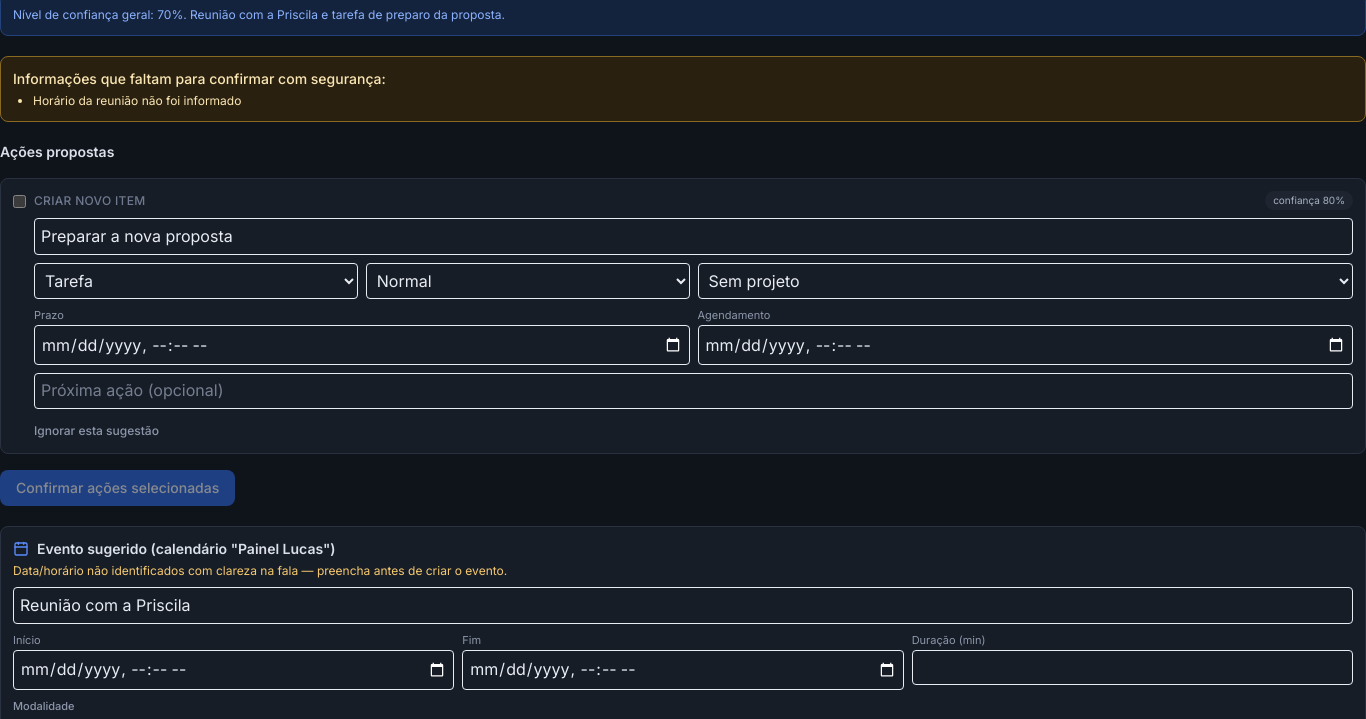
Test: AudioCaptureReview — criação e resultado › cria o evento só após clique explícito, envia o aiRunId e mostra as ações de sucesso
Type "2026-08-05T10:00" into the field labelled "Início".
click(234, 670); type("2026-08-05T10:00")  # box [13, 650, 454, 690]
(page scrolled)
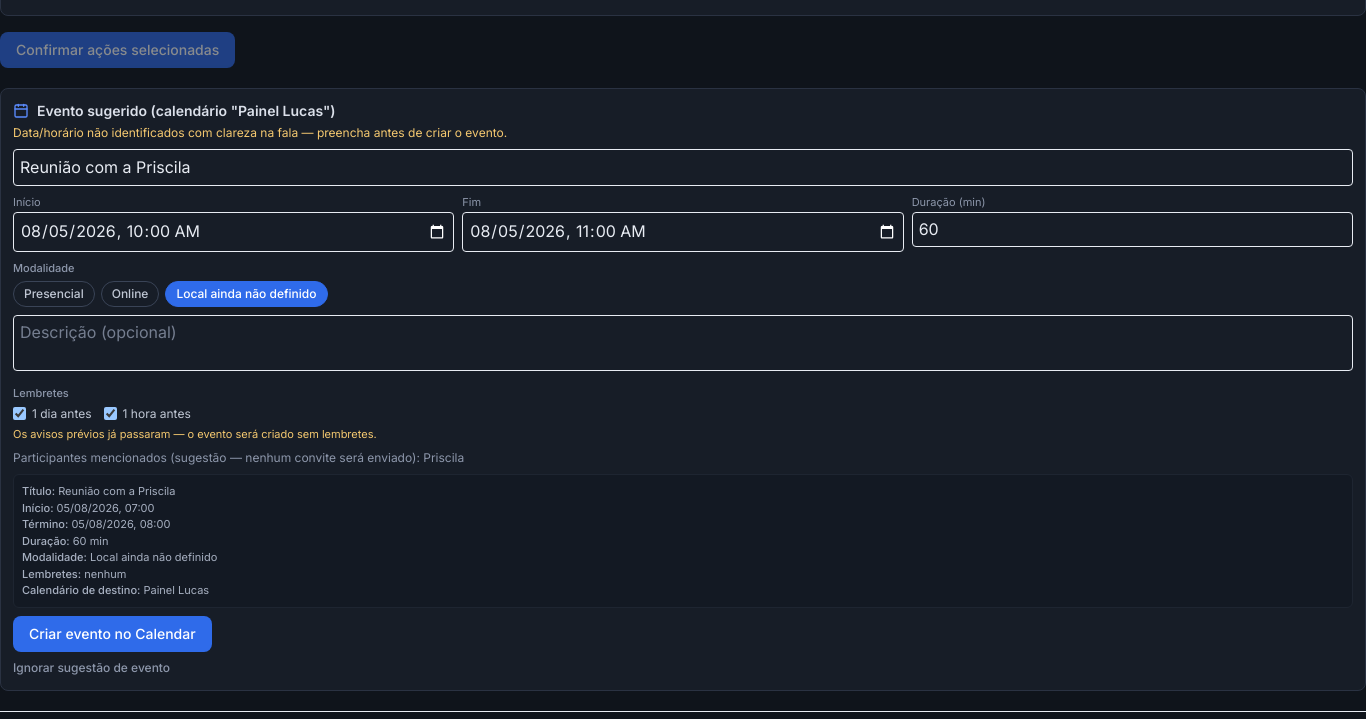
Click the button "Criar evento no Calendar".
click(112, 634)  # box [13, 616, 212, 652]
(page scrolled)
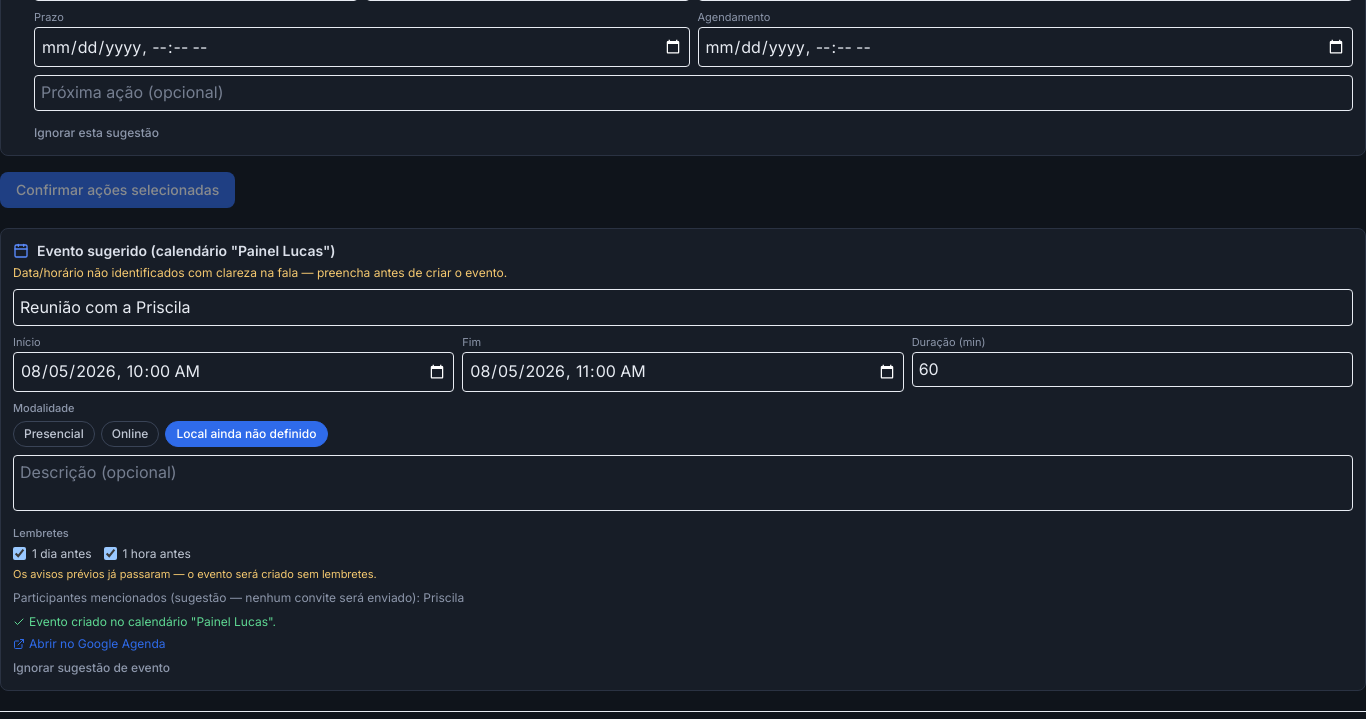
Expected: the text "Evento criado no calendário \"Painel Lucas\"." is shown, [13, 614, 276, 629]
Expected: the link "Abrir no Google Agenda" is shown, [13, 636, 166, 652]
